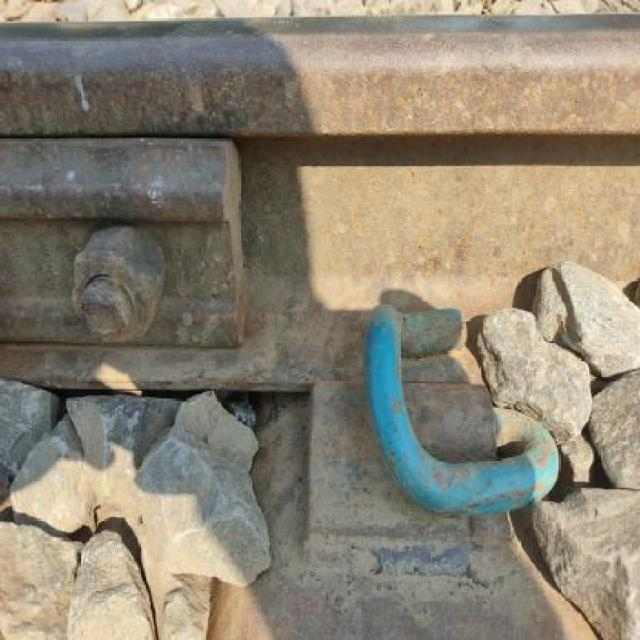non-defective: (0, 6, 638, 638)
